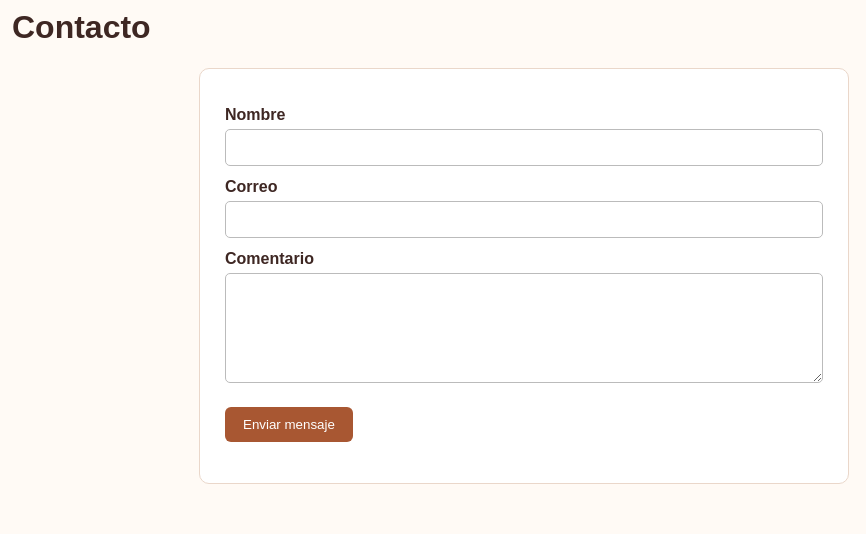
Contacto › muestra un error si el nombre esta vacio
This screenshot has width=866, height=534.
Click the button "Enviar mensaje" at (289, 425), box left=225, top=407, right=353, bottom=442
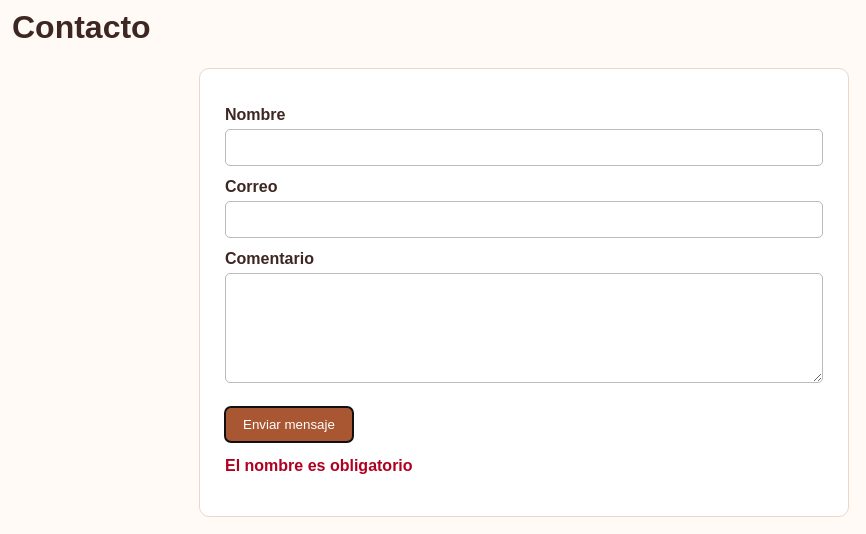
Expected: the text "El nombre es obligatorio" is shown, left=225, top=457, right=413, bottom=474
